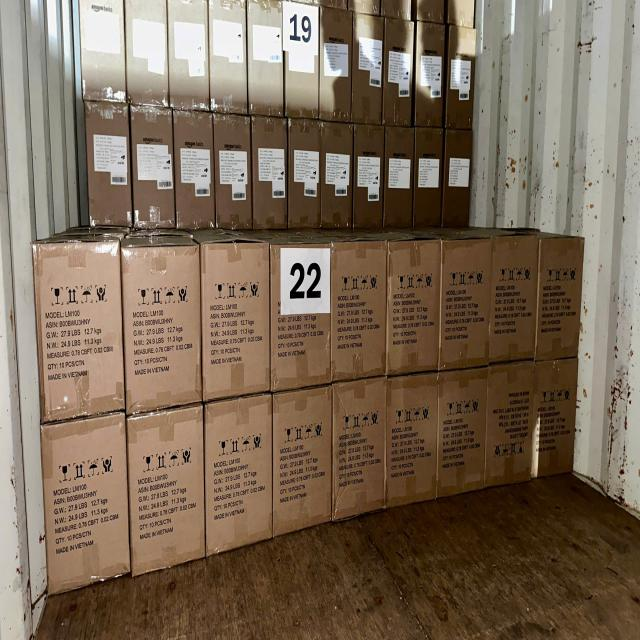Carton: (24, 245, 121, 423), (38, 414, 130, 582), (119, 246, 202, 405), (127, 405, 205, 565), (198, 243, 270, 396), (204, 400, 272, 550), (269, 244, 330, 388), (271, 393, 331, 529), (333, 240, 389, 376), (388, 244, 442, 376), (332, 380, 385, 512), (440, 238, 491, 364), (388, 375, 439, 500), (486, 363, 535, 486), (491, 234, 537, 359), (441, 371, 488, 488), (540, 235, 584, 357), (535, 361, 577, 477)
